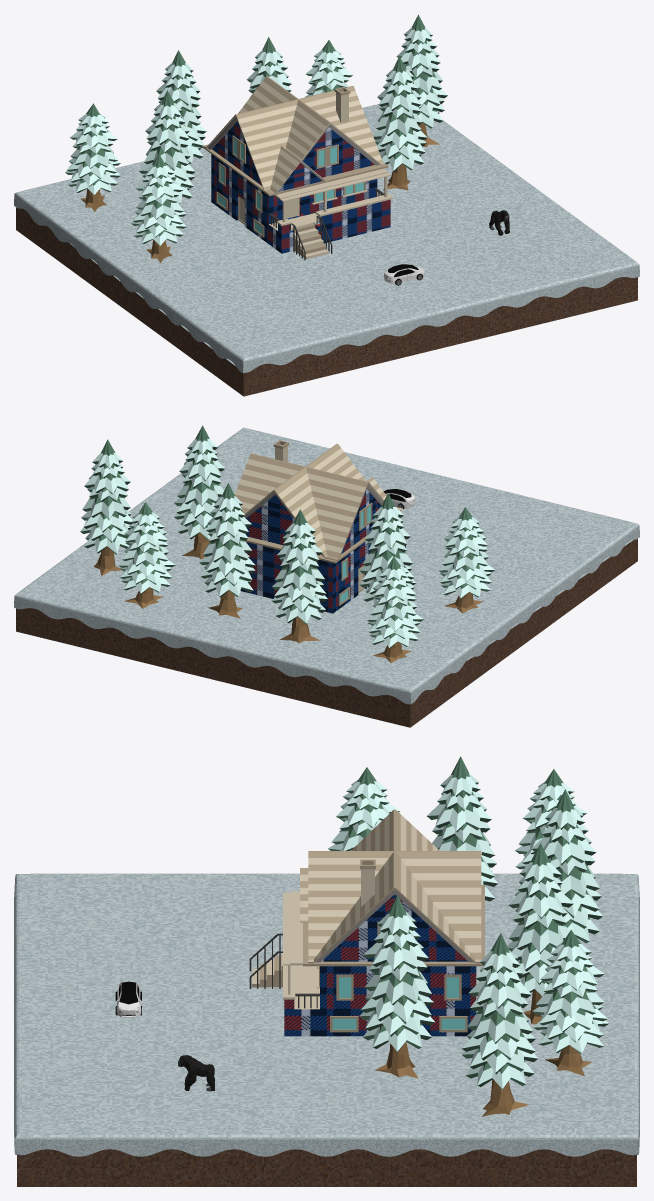
3 renders of one model, top to bottom at view 1: azimuth 30°, elevation 25°; view 2: azimuth 150°, elevation 25°; view 3: azimuth 270°, elevation 25°, orthographic. The views are drawn at different scales.
Parts seen in each view (by area): view 1: Cube.003, Cube.171, VEHICLES_TESLA; view 2: Cube.003, Cube.171, VEHICLES_TESLA; view 3: Cube.003, Cube.171, VEHICLES_TESLA, ANIMAL_GORILA.
Part boxes in pixels (bbox=[...]): Cube.003: bbox=[14, 14, 639, 396]; Cube.171: bbox=[202, 76, 393, 260]; VEHICLES_TESLA: bbox=[384, 264, 424, 285]; Cube.003: bbox=[14, 425, 639, 727]; Cube.171: bbox=[234, 440, 405, 613]; VEHICLES_TESLA: bbox=[383, 489, 415, 508]; Cube.003: bbox=[14, 756, 639, 1186]; Cube.171: bbox=[249, 809, 484, 1036]; VEHICLES_TESLA: bbox=[115, 981, 141, 1017]; ANIMAL_GORILA: bbox=[178, 1055, 214, 1091].
Size of the model in its own units: 4040 by 1700 by 4040.
Materials: 23 (4 with a texture image).
